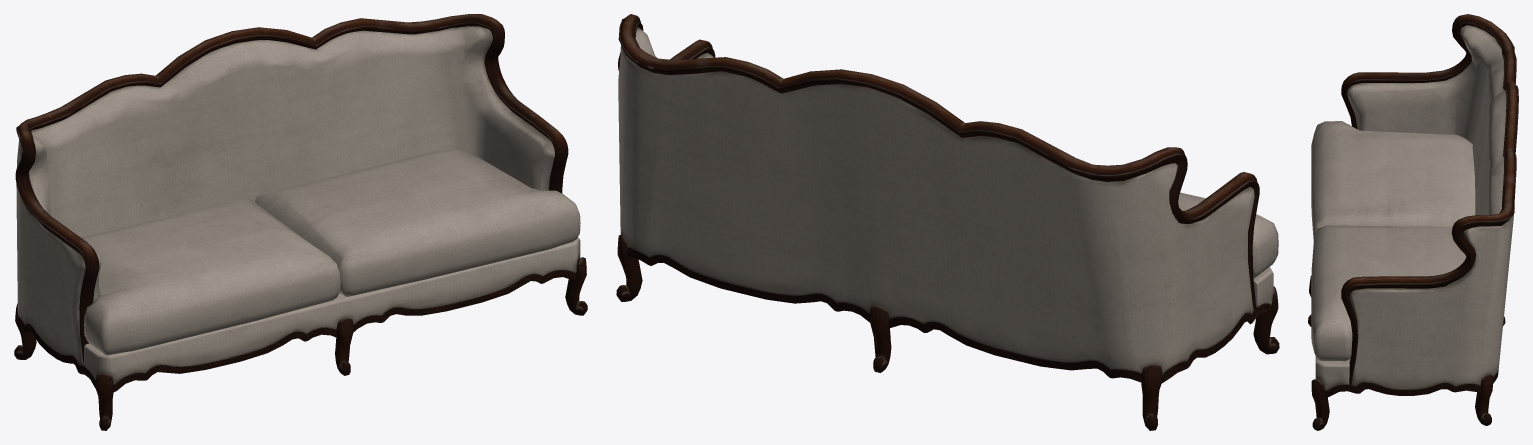
The model's file is sofa.glb.
3 views of the same model, side by side, from view 1: azimuth 30°, elevation 25°; view 2: azimuth 150°, elevation 25°; view 3: azimuth 270°, elevation 25° (orthographic). The views are drawn at different scales.
Parts seen in each view (by area): view 1: Sofa_01; view 2: Sofa_01; view 3: Sofa_01.
Part boxes in pixels (x1=…): Sofa_01: x1=14, y1=14, x2=587, y2=430; Sofa_01: x1=616, y1=14, x2=1279, y2=430; Sofa_01: x1=1308, y1=14, x2=1518, y2=430.
Bounding box in the file's own units: 1.57 × 0.8 × 0.66.
1 material, 1 textured.
